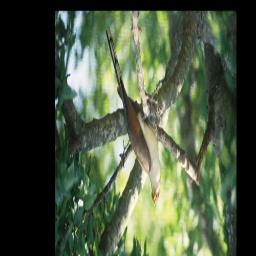Cuckoo: (104, 23, 162, 208)
